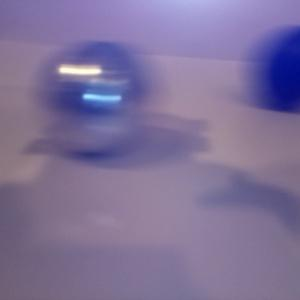alive_ball: (32, 39, 146, 155)
dead_ball: (254, 27, 300, 112)
